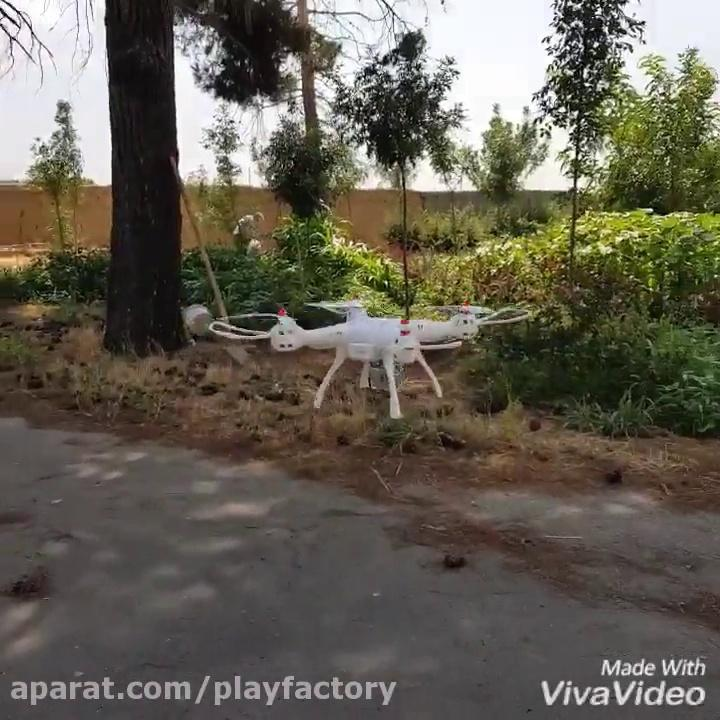drone: (208, 290, 531, 420)
